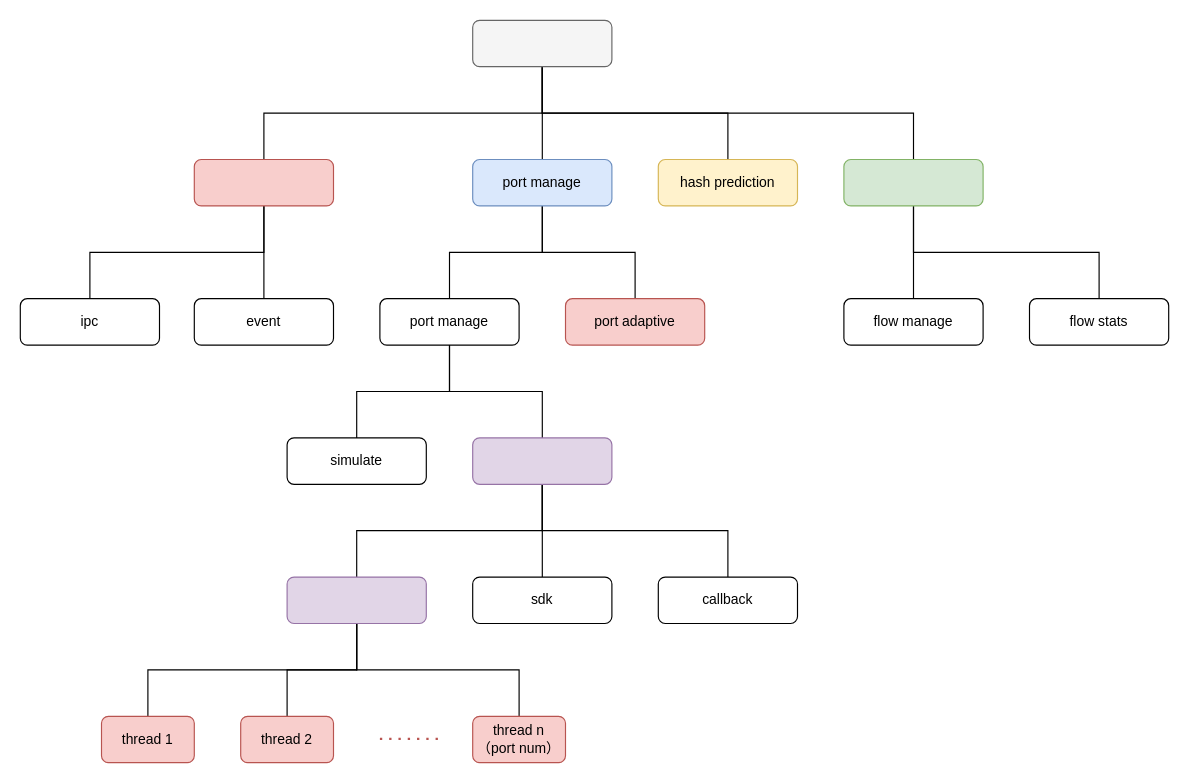
Some shapes in this 1189 by 783 pixel diagram are drawn without their labels. Here are the shapes that lost their labels. From the top down, the box of each, then its label:
(472, 19, 612, 67): swud
(193, 158, 334, 206): chx manage
(843, 158, 983, 206): flow table
(472, 437, 612, 484): mp8180
(286, 576, 426, 624): port thread
